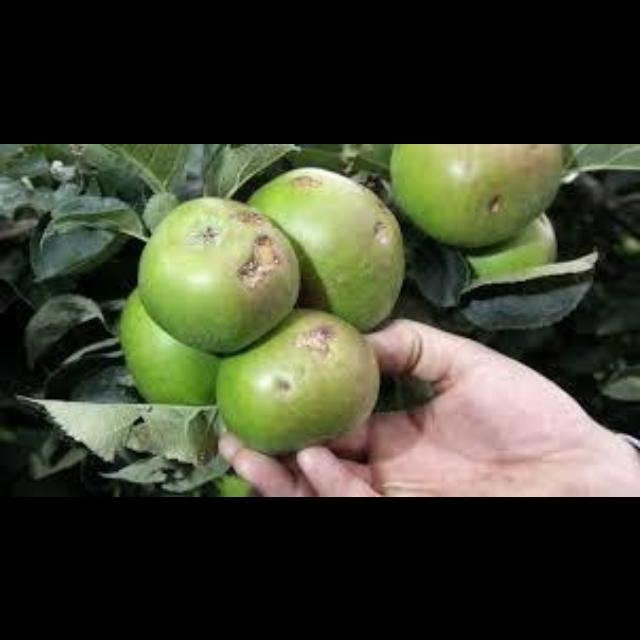apple: (248, 166, 403, 329), (138, 196, 299, 351), (216, 308, 377, 452), (390, 143, 562, 245), (119, 289, 218, 404)
pest: (236, 238, 279, 289), (295, 323, 336, 357), (189, 220, 222, 247), (292, 173, 322, 190), (273, 377, 294, 397), (239, 211, 265, 227), (374, 220, 391, 243)
scratch: (488, 194, 503, 210)
